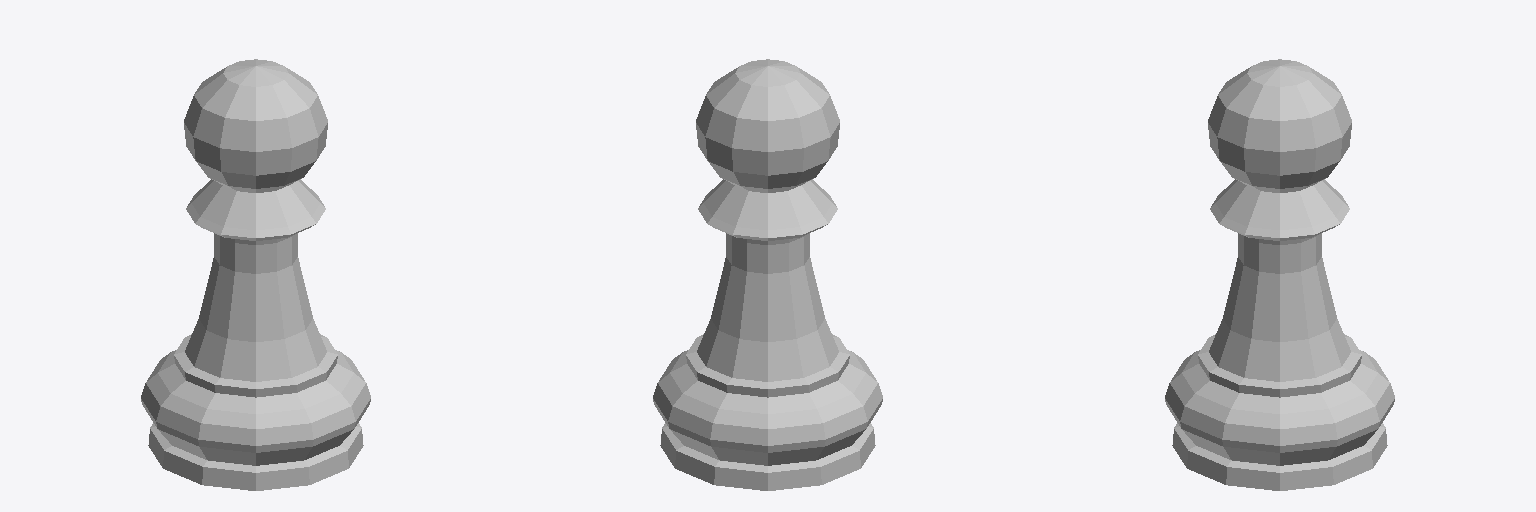
Rendered from GPawn.obj.
The picture shows the model from 3 angles: view 1: azimuth 30°, elevation 25°; view 2: azimuth 150°, elevation 25°; view 3: azimuth 270°, elevation 25°; orthographic projection.
Visible parts, largest first — view 1: Pawn; view 2: Pawn; view 3: Pawn.
Part boxes in pixels (left/top/right/bottom): Pawn: left=141, top=59, right=370, bottom=490; Pawn: left=653, top=59, right=882, bottom=490; Pawn: left=1165, top=59, right=1394, bottom=490.
Size of the model in its own units: 0.1787 by 0.3242 by 0.1787.